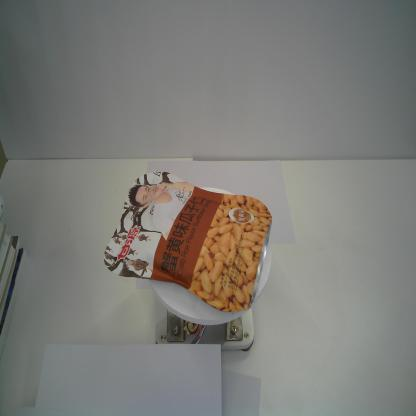Dried Fruit: (103, 170, 273, 313)
